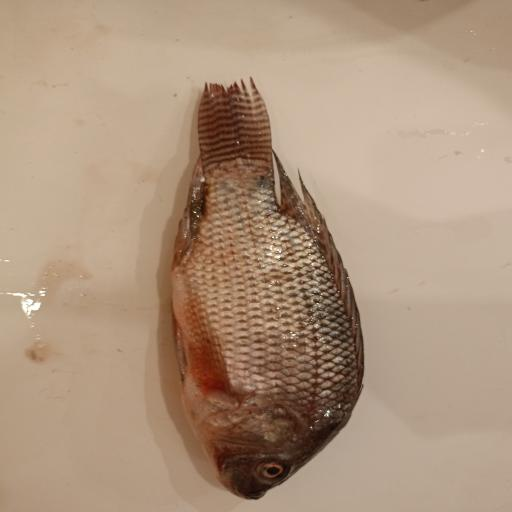Tilapia: (171, 77, 365, 500)
